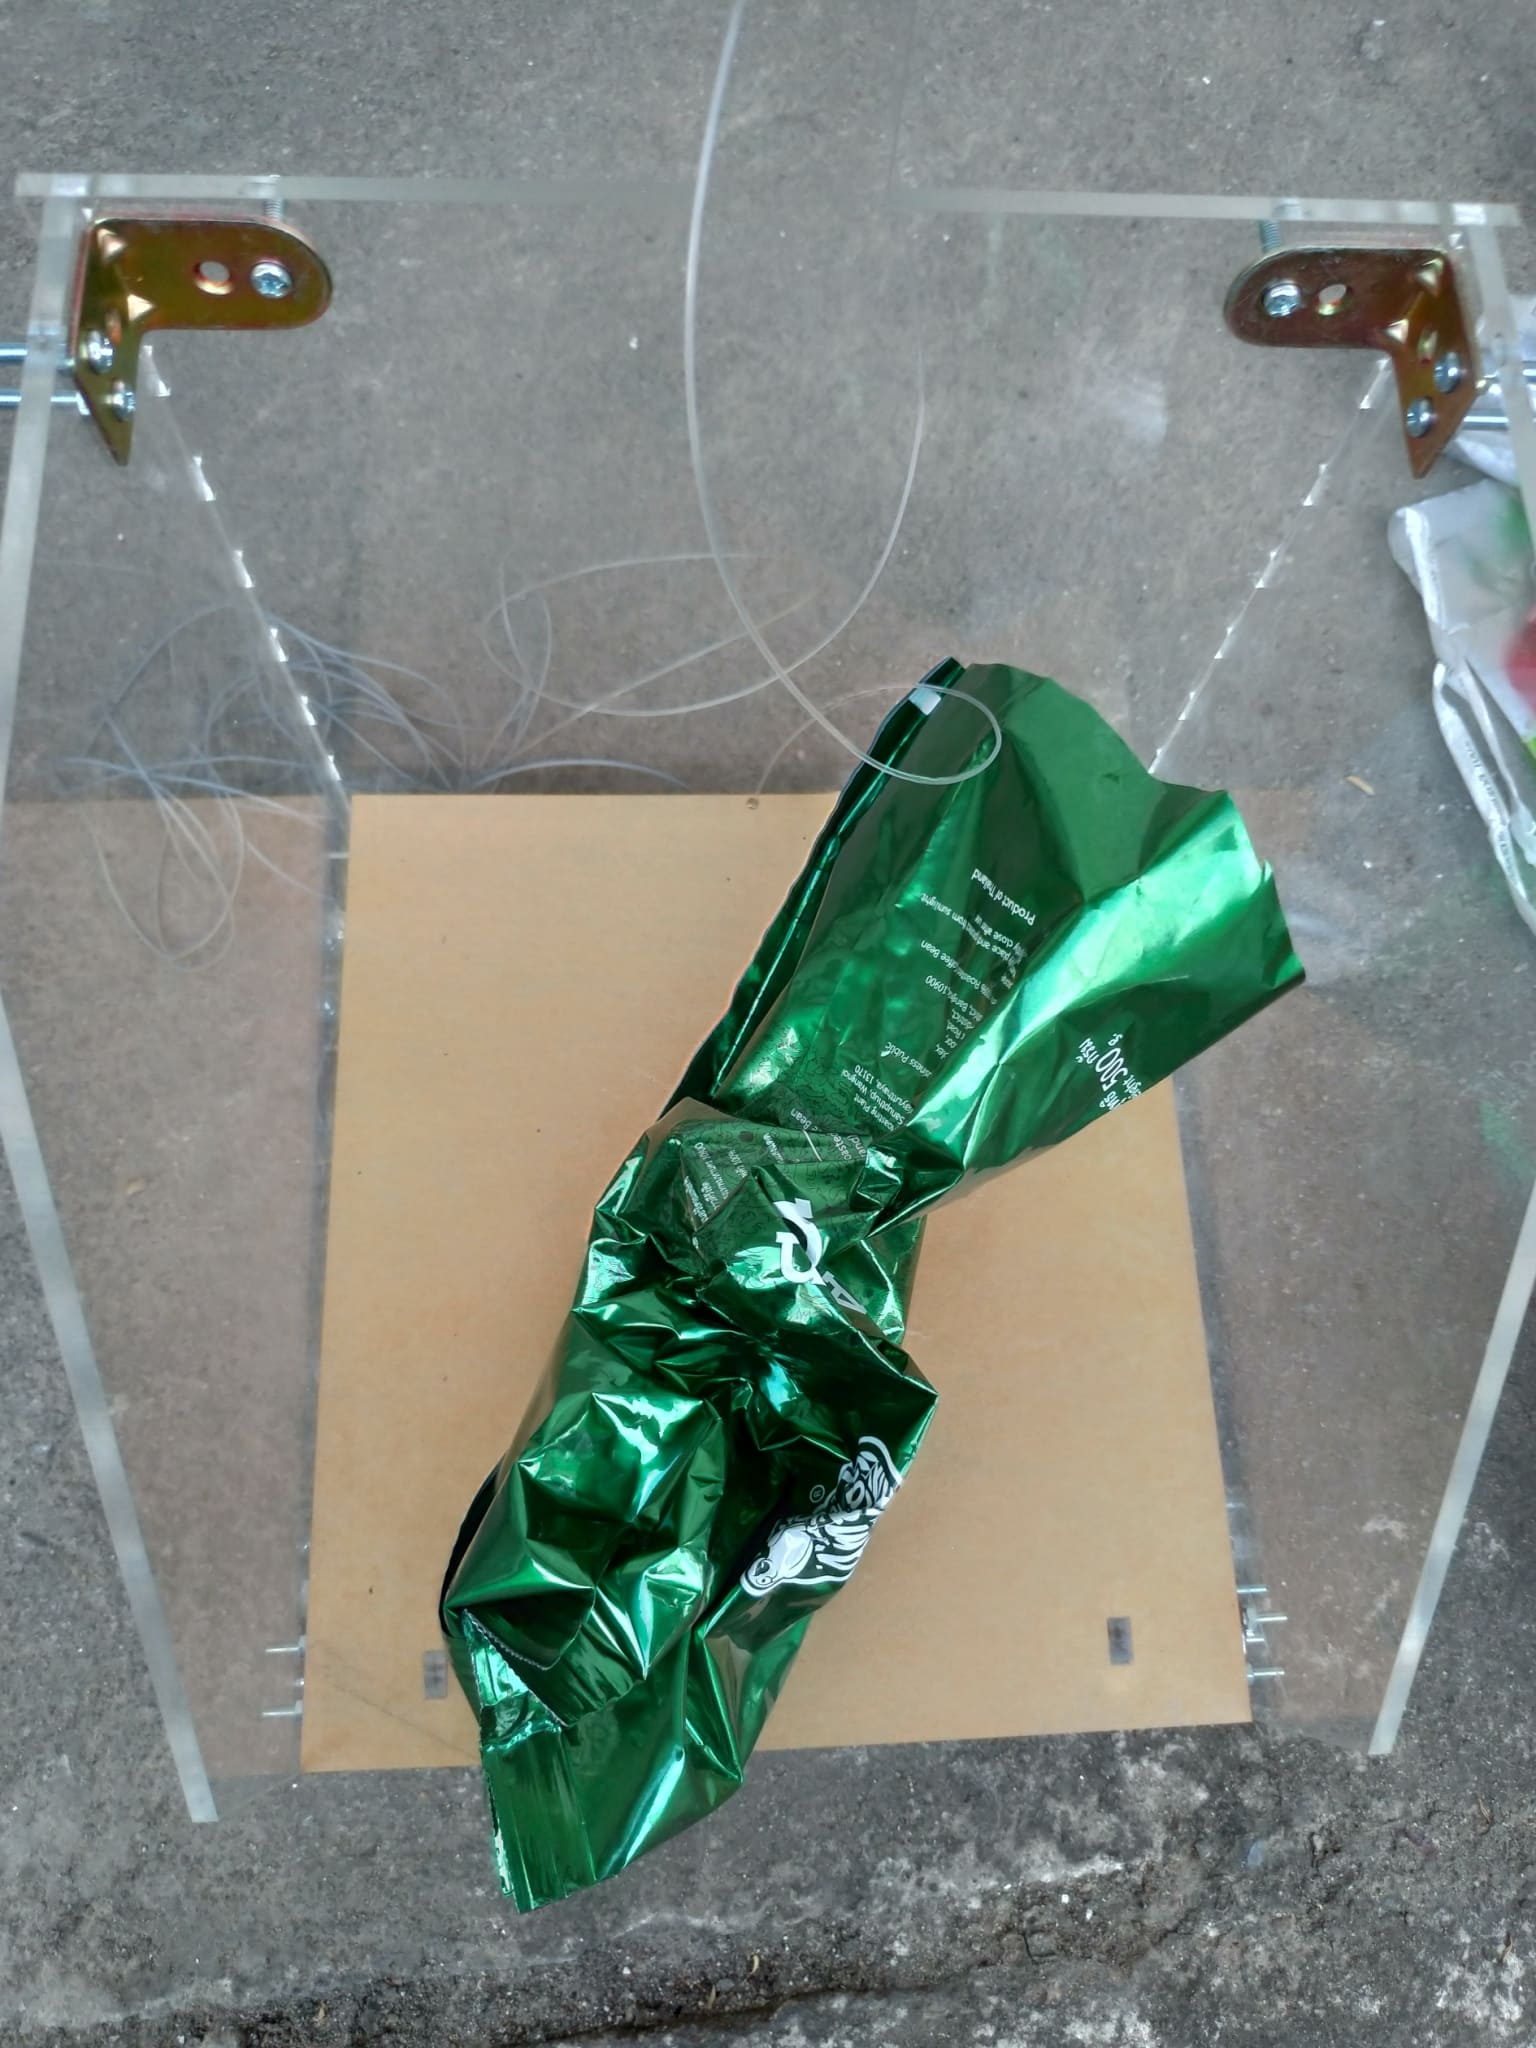Others: (436, 648, 1307, 1917)
